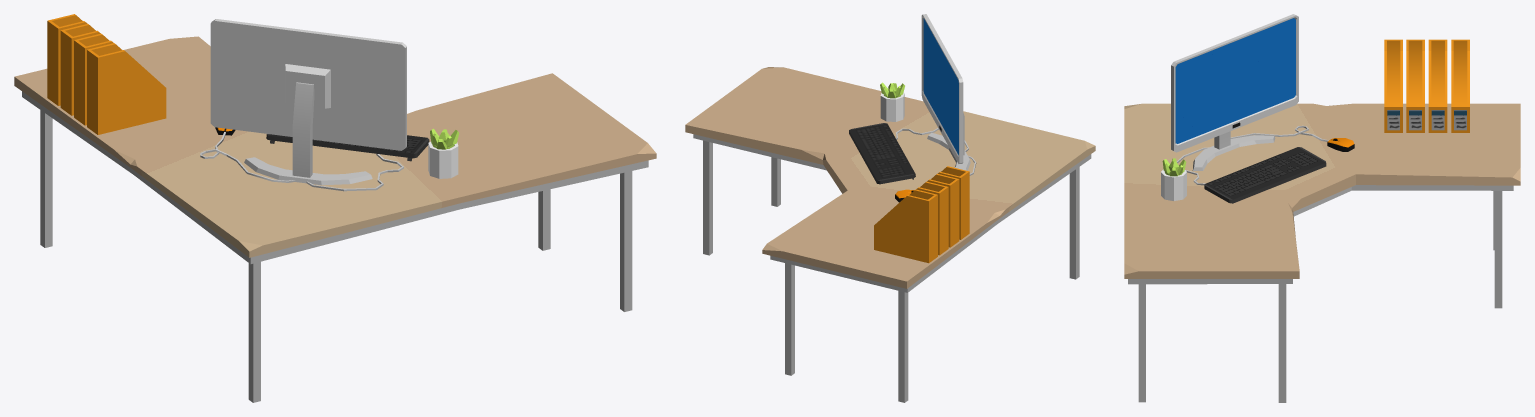
File: practiceTable.glb
3 renders of one model, left to right at view 1: azimuth 30°, elevation 25°; view 2: azimuth 150°, elevation 25°; view 3: azimuth 270°, elevation 25°, orthographic. The views are drawn at different scales.
Visible parts, largest first — view 1: PracticeTable, PracticeTableComputer, PracticeTableBookHolder; view 2: PracticeTable, PracticeTableBookHolder, PracticeTableComputer, PracticeTableComputerScreen; view 3: PracticeTable, PracticeTableComputerScreen, PracticeTableComputer, PracticeTableBookHolder.
Boxes of the visible parts, box(x1,y1,x2,y2) form: PracticeTable: box(14, 36, 656, 402); PracticeTableComputer: box(200, 19, 429, 191); PracticeTableBookHolder: box(47, 14, 166, 134); PracticeTable: box(685, 67, 1095, 402); PracticeTableBookHolder: box(874, 166, 969, 263); PracticeTableComputer: box(849, 14, 976, 202); PracticeTableComputerScreen: box(923, 18, 958, 155); PracticeTable: box(1124, 103, 1520, 402); PracticeTableComputerScreen: box(1175, 18, 1295, 143); PracticeTableComputer: box(1171, 14, 1354, 203); PracticeTableBookHolder: box(1384, 39, 1469, 132).
Bounding box in the file's own units: 1.96 × 1.39 × 1.96.
Materials: 3 (3 with a texture image).
